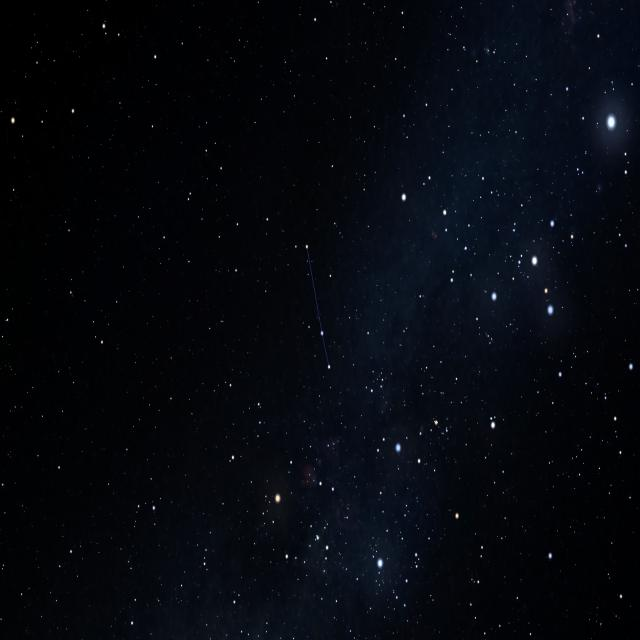Pyxis: (298, 236, 339, 378)
